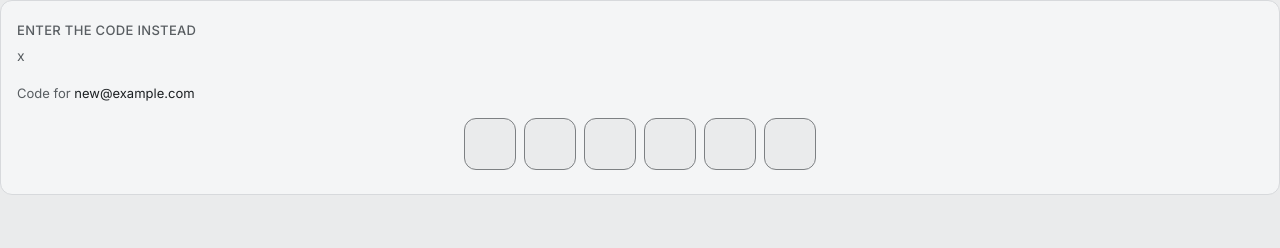
Scenario: #190 — the muted note beneath the pill › uses the signup caller's words
This screenshot has width=1280, height=248.
Step 1. Type "1" into the field named "Digit 1" → (490, 144), box [464, 118, 516, 170]
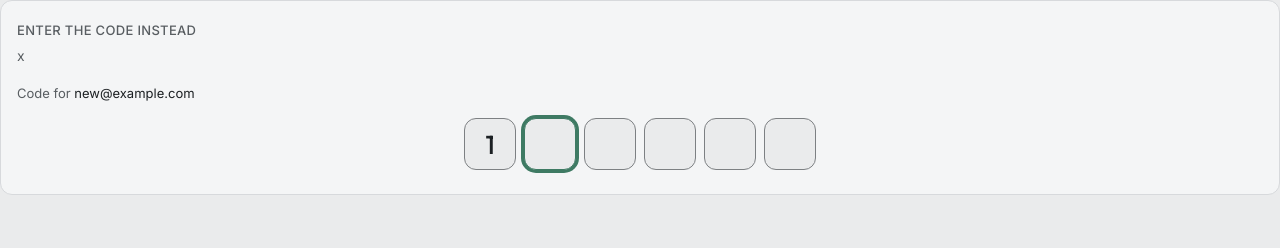
Step 2. Type "2" into the field named "Digit 2" → (550, 144), box [524, 118, 576, 170]
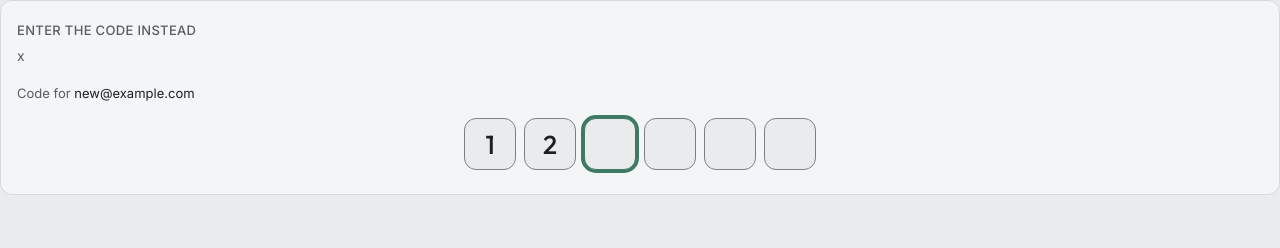
Step 3. Type "3" into the field named "Digit 3" → (610, 144), box [584, 118, 636, 170]
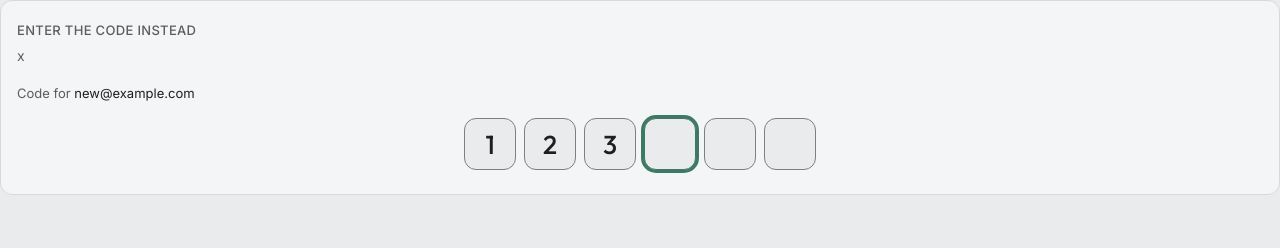
Step 4. Type "4" into the field named "Digit 4" → (670, 144), box [644, 118, 696, 170]
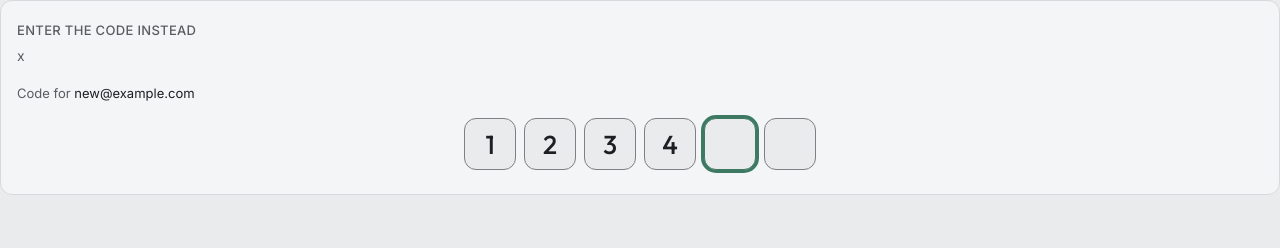
Step 5. Type "5" into the field named "Digit 5" → (730, 144), box [704, 118, 756, 170]
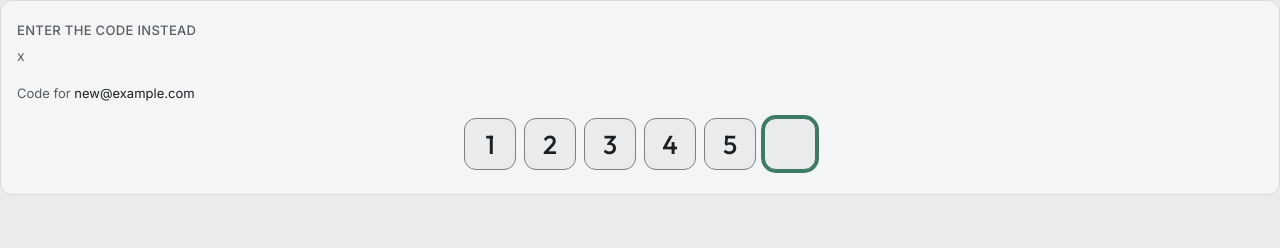
Step 6. Type "6" into the field named "Digit 6" → (790, 144), box [764, 118, 816, 170]
Wait 2940 ms
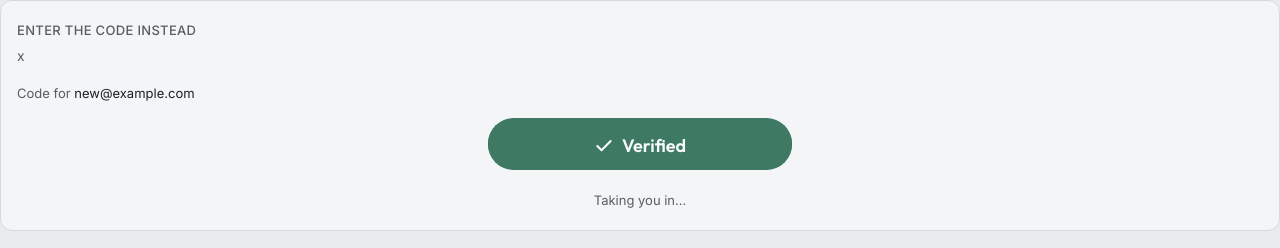
Check: the text "Taking you in…" is shown, box [594, 191, 686, 209]
